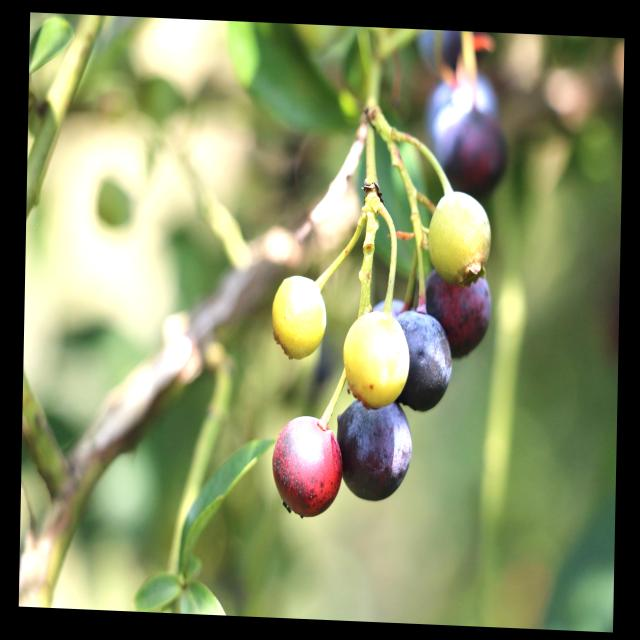blueberry: (332, 387, 422, 509), (391, 299, 459, 416)
blueberry-halfripe: (266, 408, 346, 519), (423, 268, 494, 358)
blueberry-unripe: (342, 310, 411, 410), (426, 187, 492, 283), (272, 273, 330, 359)
